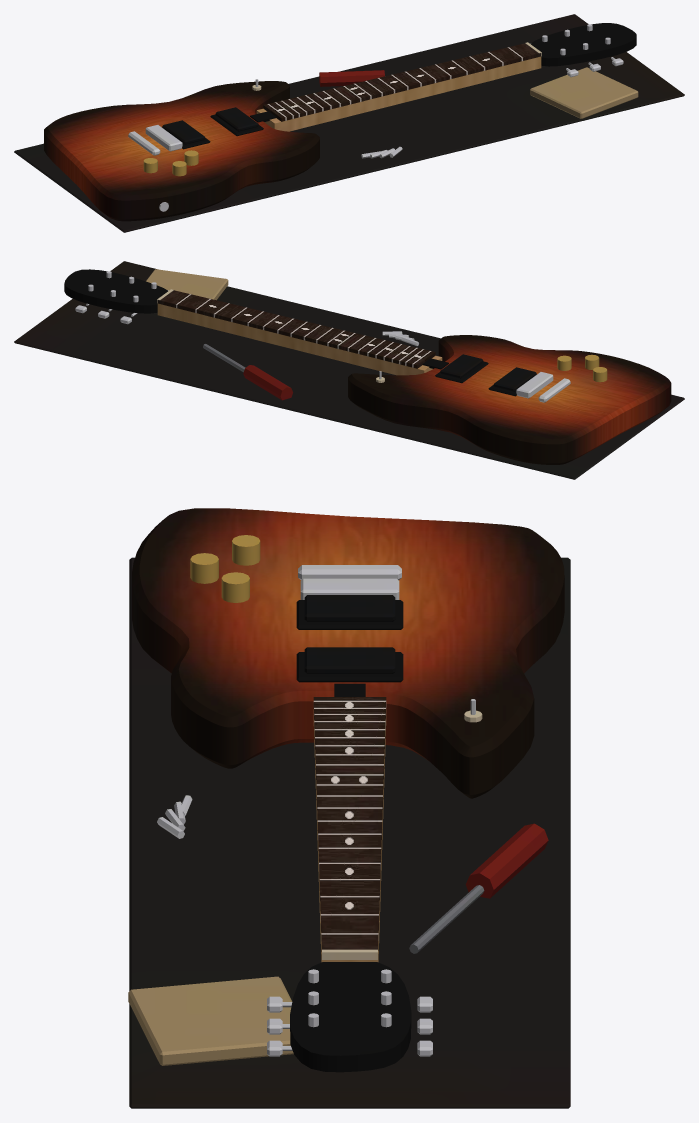
The model's file is guitar-repair.glb.
The picture shows the model from 3 angles, top to bottom: view 1: azimuth 30°, elevation 25°; view 2: azimuth 150°, elevation 25°; view 3: azimuth 270°, elevation 25°; orthographic projection. The views are drawn at different scales.
Visible parts, largest first — view 1: repair; view 2: repair; view 3: repair.
Boxes of the visible parts, bbox=[...] form: repair: bbox=[14, 14, 684, 232]; repair: bbox=[14, 261, 684, 479]; repair: bbox=[128, 508, 570, 1108].
Size of the model in its own units: 1 by 0.064 by 0.3407.
1 material, 1 textured.
